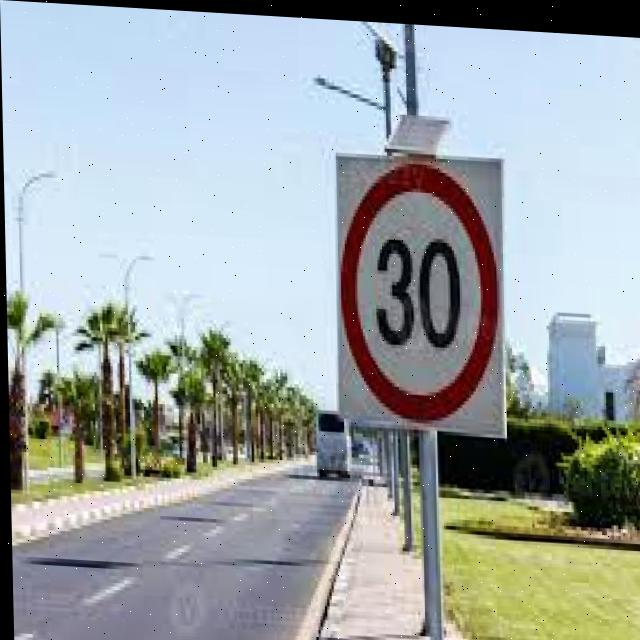Speed limit 30: (332, 142, 509, 434)
